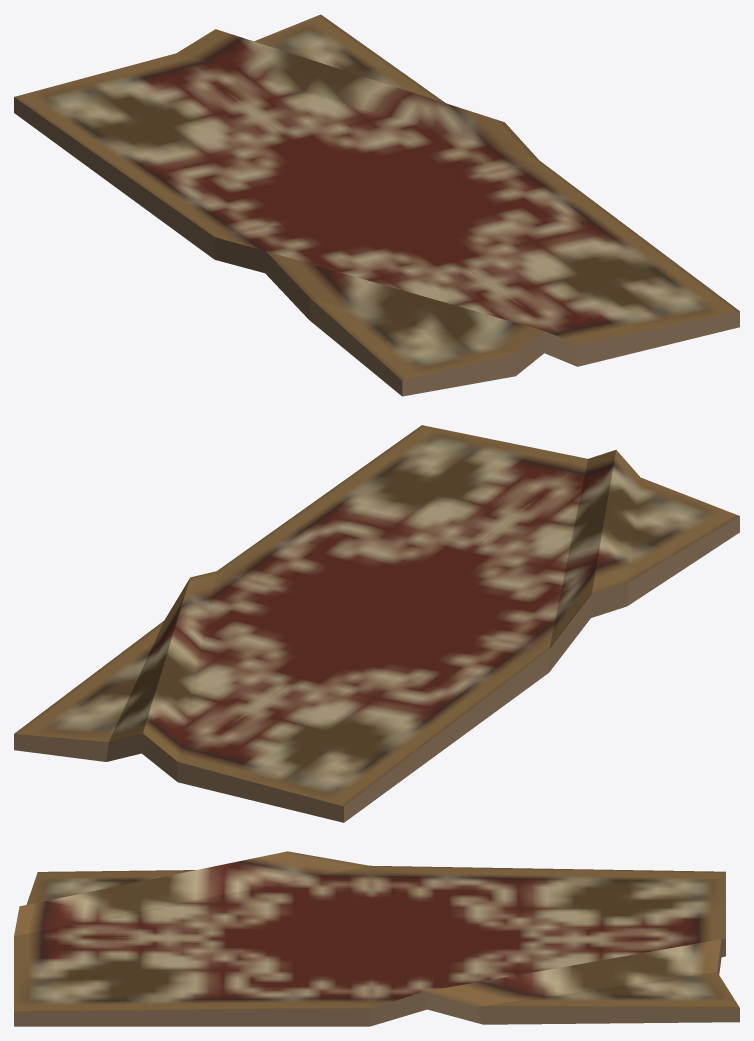
Rendered from SM_Prop_Rug_30.glb.
The picture shows the model from 3 angles, top to bottom: view 1: azimuth 30°, elevation 25°; view 2: azimuth 150°, elevation 25°; view 3: azimuth 270°, elevation 25°; orthographic projection. The views are drawn at different scales.
Parts seen in each view (by area): view 1: SM_Prop_Rug_30; view 2: SM_Prop_Rug_30; view 3: SM_Prop_Rug_30.
Part boxes in pixels (x1,y1,x2,y2): SM_Prop_Rug_30: (14,14,739,396); SM_Prop_Rug_30: (14,425,739,822); SM_Prop_Rug_30: (14,851,739,1026).
Size of the model in its own units: 0.7115 by 0.0908 by 1.55.
Materials: 1 (1 with a texture image).
